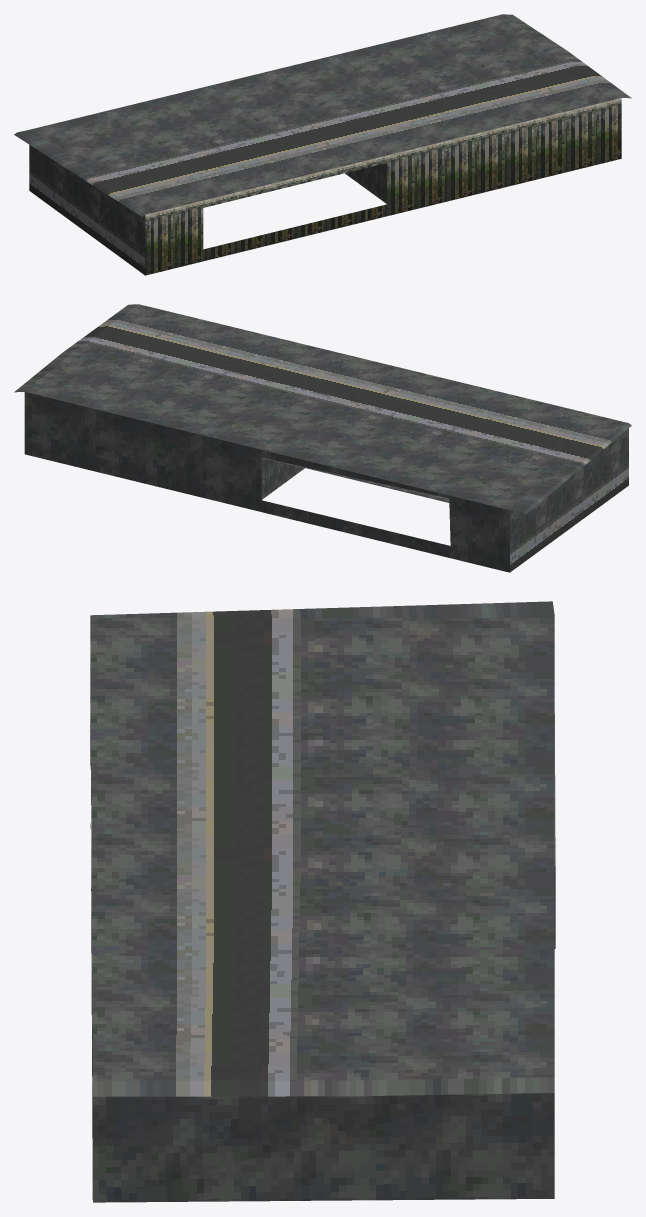
Rendered from lod_chemdock.obj.
3 renders of one model, top to bottom at view 1: azimuth 30°, elevation 25°; view 2: azimuth 150°, elevation 25°; view 3: azimuth 270°, elevation 25°, orthographic. The views are drawn at different scales.
Parts seen in each view (by area): view 1: lod_chemdock; view 2: lod_chemdock; view 3: lod_chemdock.
Part boxes in pixels (box(x1,y1,x2,y2)): lod_chemdock: box(14, 14, 631, 275); lod_chemdock: box(14, 304, 631, 572); lod_chemdock: box(90, 601, 555, 1202).
Size of the model in its own units: 170 by 19.88 by 68.01.
Materials: 2 (2 with a texture image).
